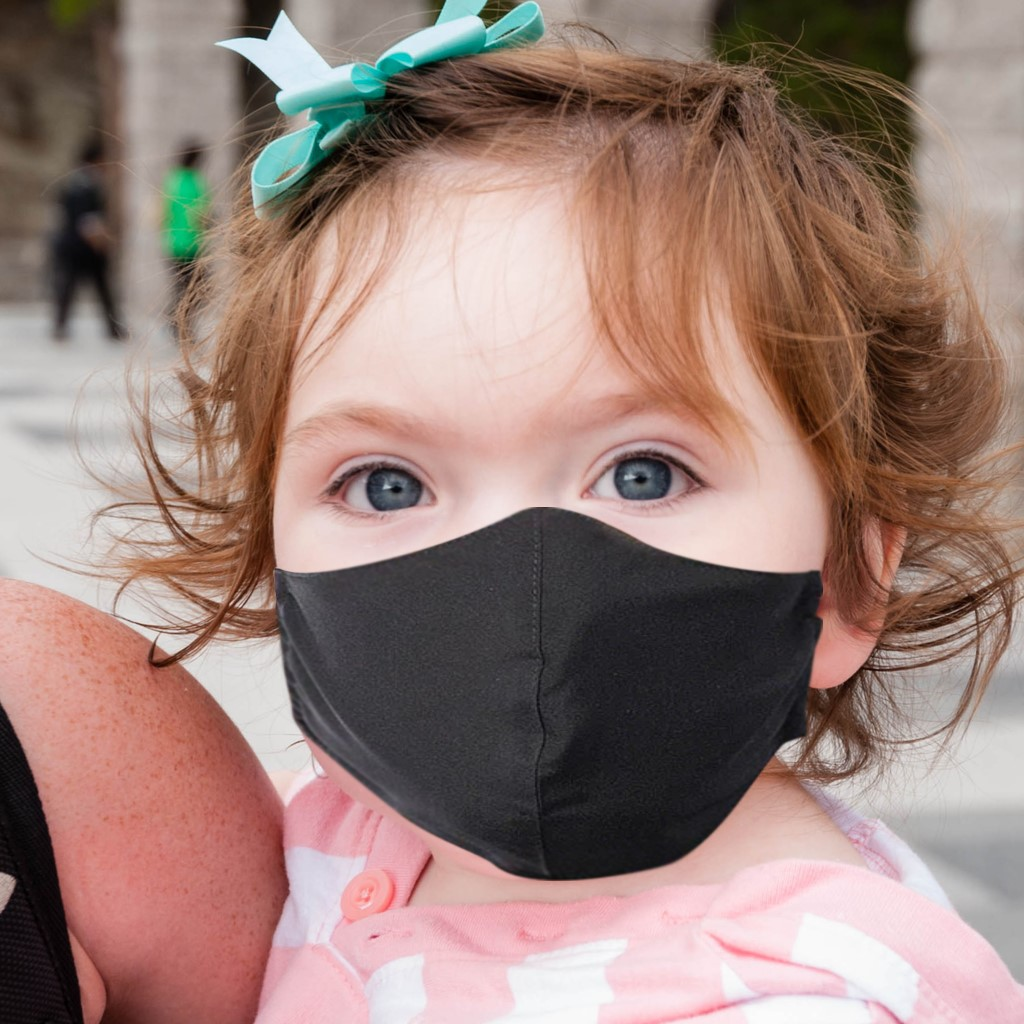con_mascara: (268, 140, 855, 884)
